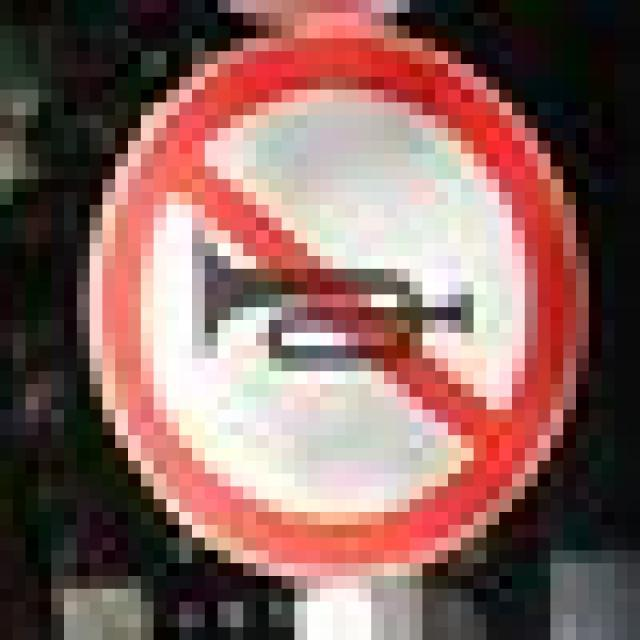horn prohibited: (76, 30, 584, 574)
